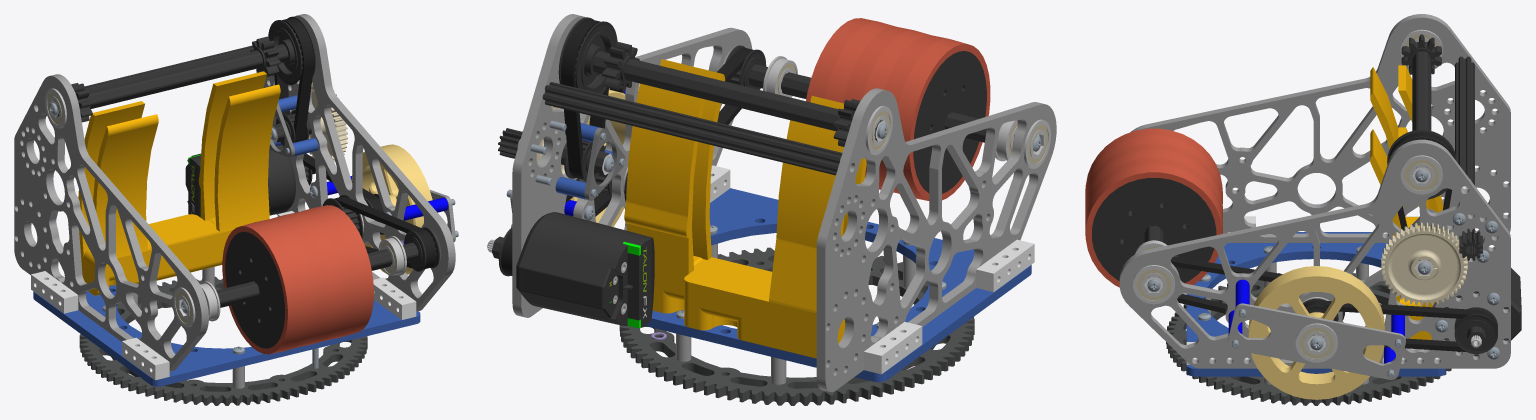
The picture shows the model from 3 angles, left to right: view 1: azimuth 30°, elevation 25°; view 2: azimuth 150°, elevation 25°; view 3: azimuth 270°, elevation 25°; orthographic projection. The views are drawn at different scales.
Parts seen in each view (by area): view 1: Shooter Side Plate (×2), Shooter Back Middle, 4" Stealth Wheel (40A, 1/2" Hex Bore) (×3), Turret Gear, Shooter Rotate Plate, Nut Strip (×3), 1/2" Rounded Hex (9" L, 13.75mm OD), Kraken X60 Brushless Motor, 4" Brass Flywheel (1/2" Triangle Bore), 1/2" Hex Bore Bearing (1.125" OD, 0.313" WD, Shielded, Flang (×3), 50 Tooth x 9mm HTD5 Belt, 30t Aluminum Pulley (HTD 5mm, 9mm Wide, 1/2" Hex Bore) (+10 smaller); view 2: Shooter Side Plate (×2), Shooter Back Middle, 4" Stealth Wheel (40A, 1/2" Hex Bore) (×3), Kraken X60 Brushless Motor, Turret Gear, Shooter Rotate Plate, 1/2" Hex Lite (8.352" L), 1/2" Rounded Hex (9" L, 13.75mm OD), Nut Strip (×3), 1/2" Hex Bore Bearing (1.125" OD, 0.313" WD, Shielded, Flang (×3), 50 Tooth x 9mm HTD5 Belt, 30t Aluminum Pulley (HTD 5mm, 9mm Wide, 1/2" Hex Bore) (+9 smaller); view 3: Shooter Side Plate (×2), 4" Stealth Wheel (40A, 1/2" Hex Bore) (×3), 4" Brass Flywheel (1/2" Triangle Bore), Flywheel Plate, 48t Pocketed Aluminum Spur Gear (20 DP, 1/2" Hex Bore), Shooter Rotate Plate, Turret Gear, 1/2" Hex Bore Bearing (1.125" OD, 0.313" WD, Shielded, Flang (×4), Shooter Back Middle, 1/2" Hex Lite (8.352" L), 65 Tooth x 9mm HTD5 Belt, 1/2" Rounded Hex (9" L, 13.75mm OD) (+8 smaller).
Boxes of the visible parts, x1,y1,x2,y2 form: Shooter Side Plate (×2): (14,14,455,371); Shooter Back Middle: (78,71,280,295); 4" Stealth Wheel (40A, 1/2" Hex Bore) (×3): (222,205,373,354); Turret Gear: (79,276,367,405); Shooter Rotate Plate: (33,285,420,386); Nut Strip (×3): (31,271,416,380); 1/2" Rounded Hex (9" L, 13.75mm OD): (50,44,288,117); Kraken X60 Brushless Motor: (185,145,295,217); 4" Brass Flywheel (1/2" Triangle Bore): (351,144,432,274); 1/2" Hex Bore Bearing (1.125" OD, 0.313" WD, Shielded, Flang (×3): (45,88,406,327); 50 Tooth x 9mm HTD5 Belt: (274,18,314,142); 30t Aluminum Pulley (HTD 5mm, 9mm Wide, 1/2" Hex Bore): (268,16,315,84); Shooter Side Plate (×2): (512,14,1056,391); Shooter Back Middle: (624,59,866,358); 4" Stealth Wheel (40A, 1/2" Hex Bore) (×3): (806,18,990,200); Kraken X60 Brushless Motor: (487,212,654,328); Turret Gear: (619,247,974,405); Shooter Rotate Plate: (645,188,1031,382); 1/2" Hex Lite (8.352" L): (542,82,842,175); 1/2" Rounded Hex (9" L, 13.75mm OD): (592,51,885,141); Nut Strip (×3): (710,165,1034,374); 1/2" Hex Bore Bearing (1.125" OD, 0.313" WD, Shielded, Flang (×3): (763,56,1050,168); 50 Tooth x 9mm HTD5 Belt: (561,19,608,179); 30t Aluminum Pulley (HTD 5mm, 9mm Wide, 1/2" Hex Bore): (558,17,617,93); Shooter Side Plate (×2): (1119,14,1510,368); 4" Stealth Wheel (40A, 1/2" Hex Bore) (×3): (1085,128,1222,287); 4" Brass Flywheel (1/2" Triangle Bore): (1248,266,1384,399); Flywheel Plate: (1227,303,1405,379); 48t Pocketed Aluminum Spur Gear (20 DP, 1/2" Hex Bore): (1381,222,1467,305); Shooter Rotate Plate: (1186,232,1445,376); Turret Gear: (1166,273,1451,405); 1/2" Hex Bore Bearing (1.125" OD, 0.313" WD, Shielded, Flang (×4): (1133,29,1442,362); Shooter Back Middle: (1370,65,1443,339); 1/2" Hex Lite (8.352" L): (1455,56,1474,190); 65 Tooth x 9mm HTD5 Belt: (1304,300,1496,351); 1/2" Rounded Hex (9" L, 13.75mm OD): (1412,51,1431,183).
Size of the model in its own units: 0.2889 by 0.2211 by 0.3209.
